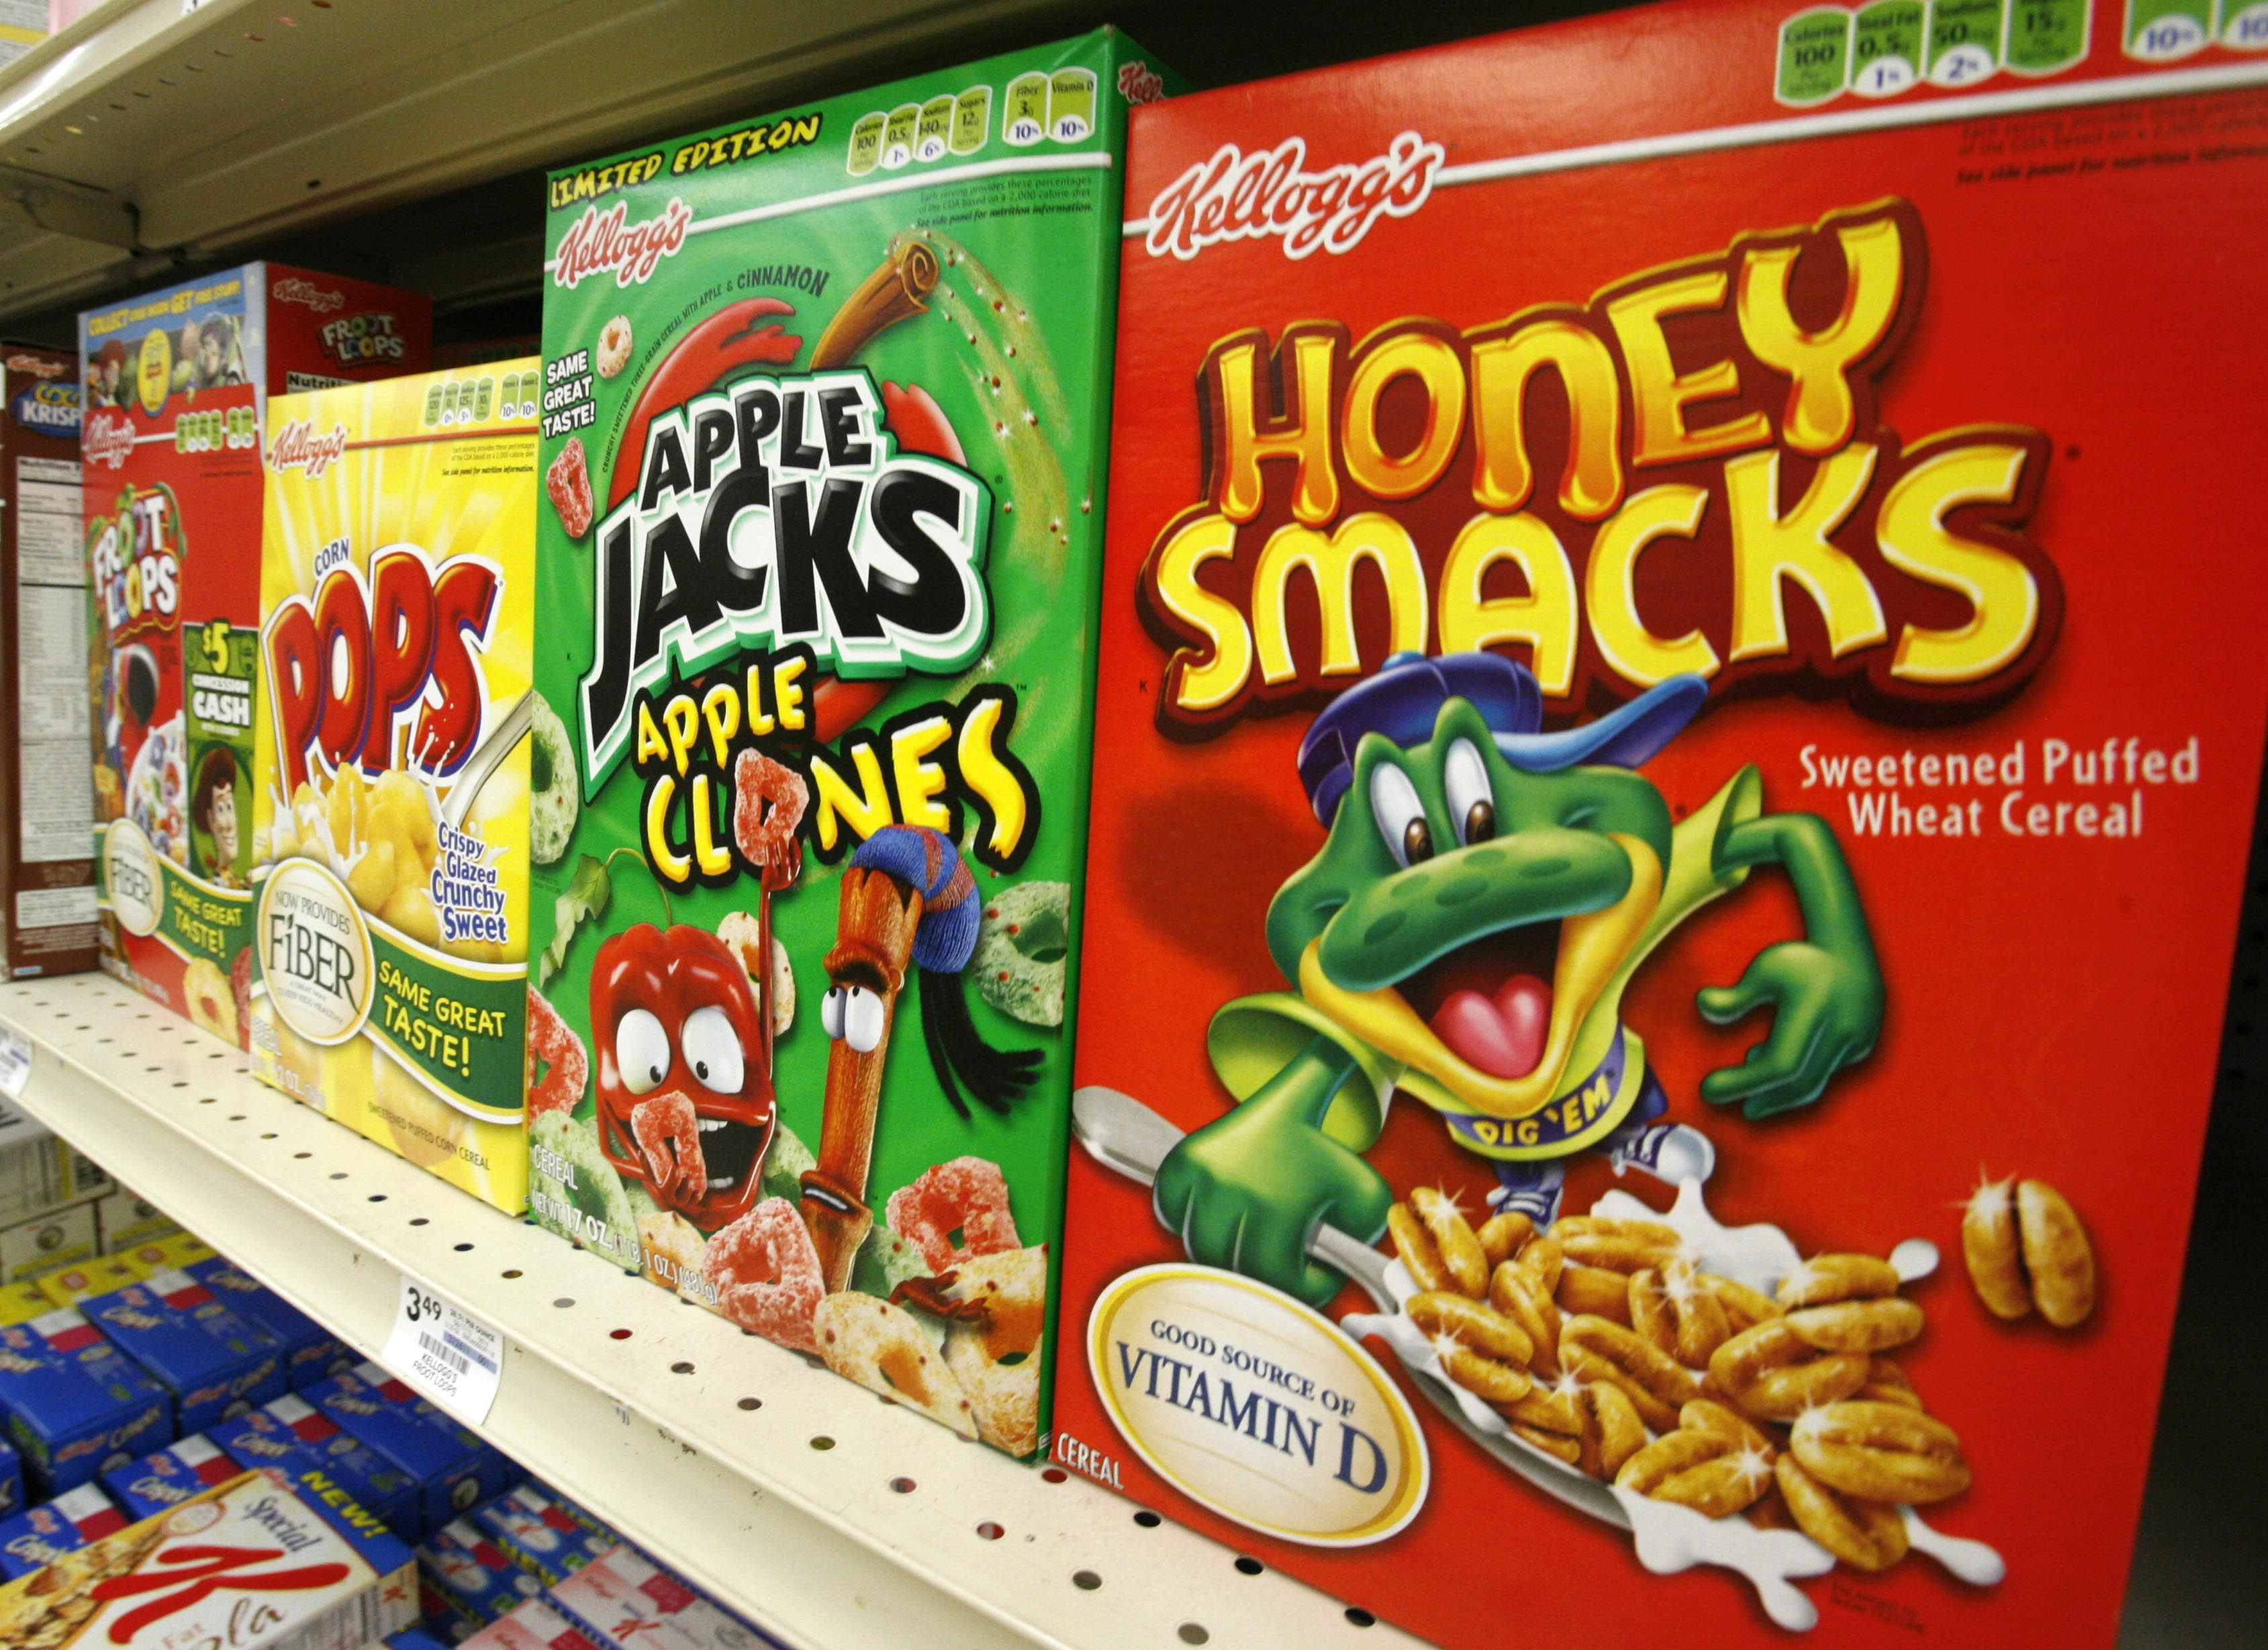cereal: (1125, 90, 2136, 1650), (549, 166, 1074, 1453), (271, 365, 565, 1120), (81, 266, 276, 1046)
